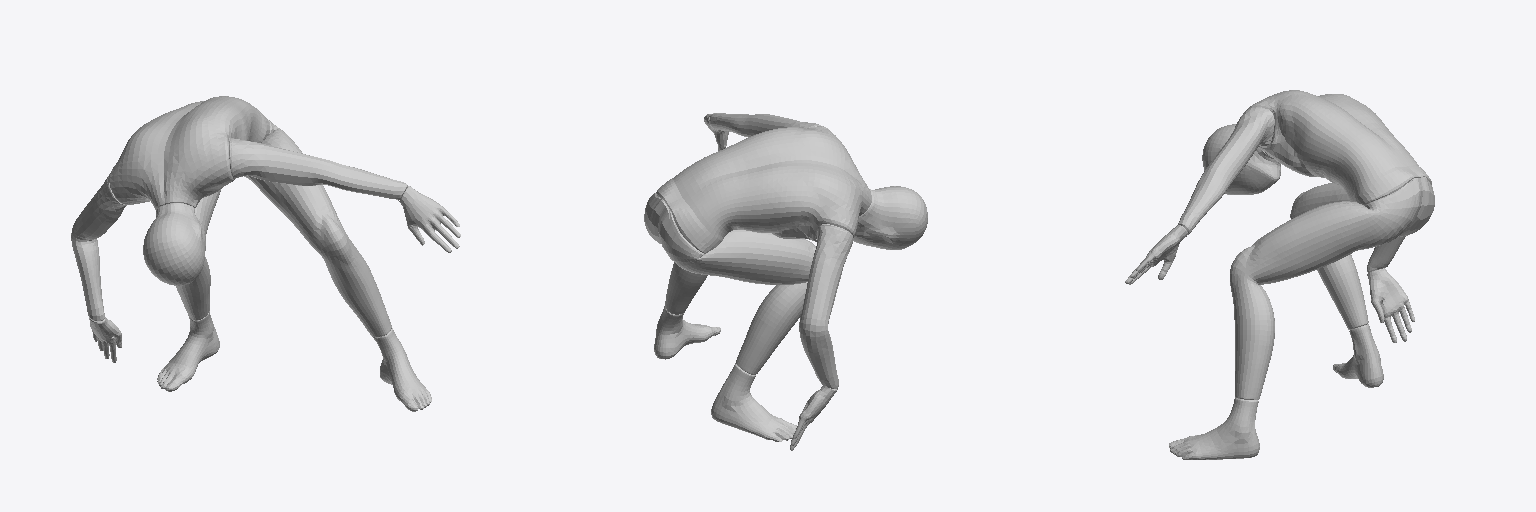
The model's file is standup59.obj.
3 renders of one model, left to right at view 1: azimuth 30°, elevation 25°; view 2: azimuth 150°, elevation 25°; view 3: azimuth 270°, elevation 25°, orthographic.
Visible parts, largest first — view 1: Ch36; view 2: Ch36; view 3: Ch36.
Part boxes in pixels (x1,y1,x2,y2): Ch36: (71,96,460,411); Ch36: (644,113,927,450); Ch36: (1125,90,1434,459).
Bounding box in the file's own units: 0.8529 × 0.871 × 0.8616.